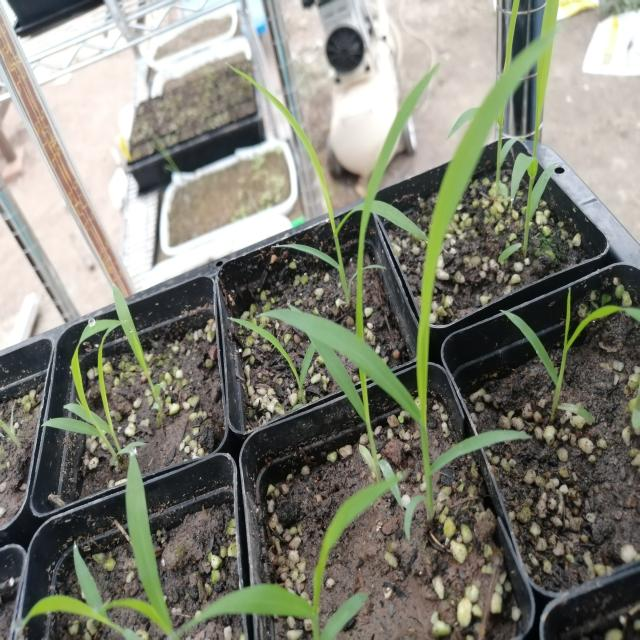crabgrass: (347, 35, 556, 505), (33, 295, 139, 470)
